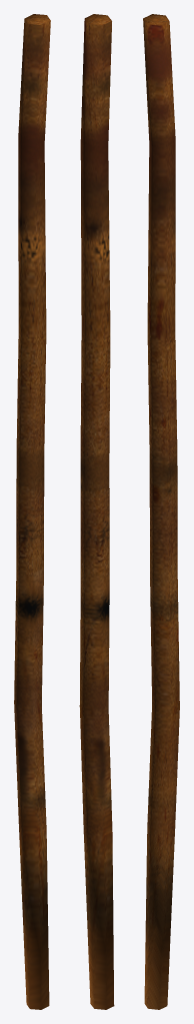
File: lathi.obj
The picture shows the model from 3 angles, left to right: view 1: azimuth 90°, elevation 25°; view 2: azimuth 150°, elevation 25°; view 3: azimuth 270°, elevation 25°; orthographic projection.
Visible parts, largest first — view 1: Maee_Lathi; view 2: Maee_Lathi; view 3: Maee_Lathi.
Part boxes in pixels (left/top/right/bottom): Maee_Lathi: left=14, top=14, right=50, bottom=1009; Maee_Lathi: left=79, top=14, right=114, bottom=1009; Maee_Lathi: left=143, top=14, right=179, bottom=1009.
Size of the model in its own units: 0.2596 by 9.03 by 0.3057.
Materials: 1 (1 with a texture image).
